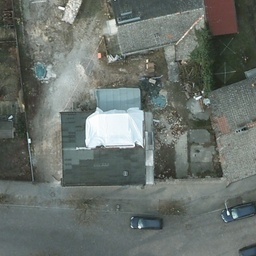car: (219, 202, 256, 222), (130, 215, 162, 232)
